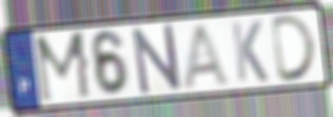6: (87, 28, 132, 99)
A: (179, 21, 233, 89)
D: (269, 12, 320, 85)
K: (229, 18, 271, 84)
M: (32, 28, 94, 107)
N: (130, 21, 184, 97)
